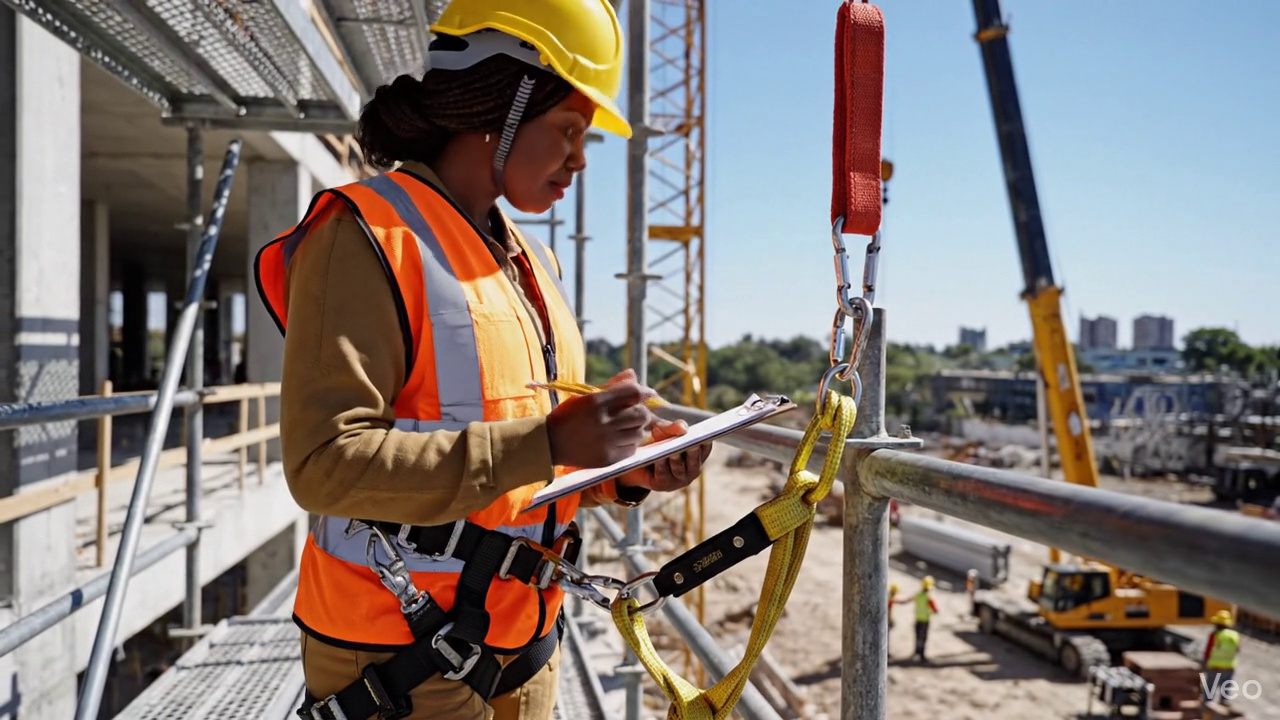p: (256, 0, 711, 719), (500, 703, 504, 705), (502, 709, 504, 711), (510, 709, 513, 710), (510, 704, 513, 705)
